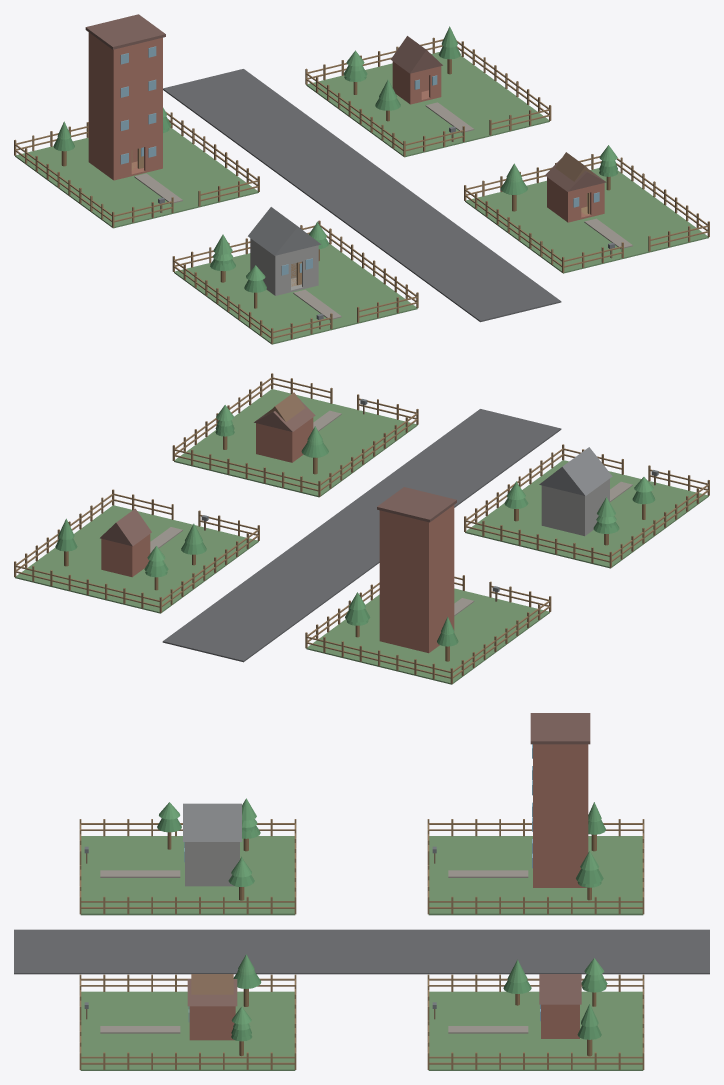
Rendered from neighborhood.glb.
3 views of the same model, one above another, from view 1: azimuth 30°, elevation 25°; view 2: azimuth 150°, elevation 25°; view 3: azimuth 270°, elevation 25° (orthographic). The views are drawn at different scales.
Parts seen in each view (by area): view 1: neighborhood_0_0, neighborhood_0_91, neighborhood_0_247, neighborhood_0_175, neighborhood_0_16, neighborhood_0_149, neighborhood_0_15, neighborhood_0_153, neighborhood_0_152, neighborhood_0_174, neighborhood_0_154, neighborhood_0_246 (+6 smaller); view 2: neighborhood_0_0, neighborhood_0_91, neighborhood_0_247, neighborhood_0_175, neighborhood_0_16, neighborhood_0_151, neighborhood_0_149, neighborhood_0_15, neighborhood_0_174, neighborhood_0_4, neighborhood_0_246, neighborhood_0_79 (+6 smaller); view 3: neighborhood_0_0, neighborhood_0_247, neighborhood_0_91, neighborhood_0_16, neighborhood_0_175, neighborhood_0_150, neighborhood_0_15, neighborhood_0_3, neighborhood_0_174, neighborhood_0_78, neighborhood_0_246, neighborhood_0_234 (+10 smaller).
Part boxes in pixels (x1,y1,x2,y2): neighborhood_0_0: [163, 69, 561, 322]; neighborhood_0_91: [465, 168, 708, 273]; neighborhood_0_247: [306, 52, 549, 157]; neighborhood_0_175: [15, 127, 258, 228]; neighborhood_0_16: [174, 244, 417, 344]; neighborhood_0_149: [88, 32, 115, 179]; neighborhood_0_15: [248, 207, 320, 255]; neighborhood_0_153: [144, 38, 160, 172]; neighborhood_0_152: [116, 45, 131, 178]; neighborhood_0_174: [85, 14, 165, 49]; neighborhood_0_154: [131, 42, 145, 149]; neighborhood_0_246: [391, 36, 442, 73]; neighborhood_0_0: [162, 409, 561, 662]; neighborhood_0_91: [174, 389, 417, 497]; neighborhood_0_247: [15, 505, 258, 613]; neighborhood_0_175: [306, 588, 549, 684]; neighborhood_0_16: [465, 460, 708, 568]; neighborhood_0_151: [382, 511, 426, 652]; neighborhood_0_149: [426, 505, 454, 652]; neighborhood_0_15: [539, 447, 612, 495]; neighborhood_0_174: [377, 487, 456, 522]; neighborhood_0_4: [543, 486, 582, 533]; neighborhood_0_246: [100, 508, 151, 546]; neighborhood_0_79: [258, 423, 289, 460]; neighborhood_0_0: [14, 929, 709, 974]; neighborhood_0_247: [428, 991, 643, 1070]; neighborhood_0_91: [80, 991, 295, 1070]; neighborhood_0_16: [80, 836, 295, 915]; neighborhood_0_175: [428, 836, 643, 915]; neighborhood_0_150: [533, 744, 588, 887]; neighborhood_0_15: [183, 803, 241, 841]; neighborhood_0_3: [185, 842, 239, 886]; neighborhood_0_174: [530, 713, 590, 744]; neighborhood_0_78: [189, 1006, 235, 1039]; neighborhood_0_246: [539, 974, 581, 1004]; neighborhood_0_234: [541, 1004, 579, 1038].
Bounding box in the file's own units: 27.09 × 8.03 × 34.
